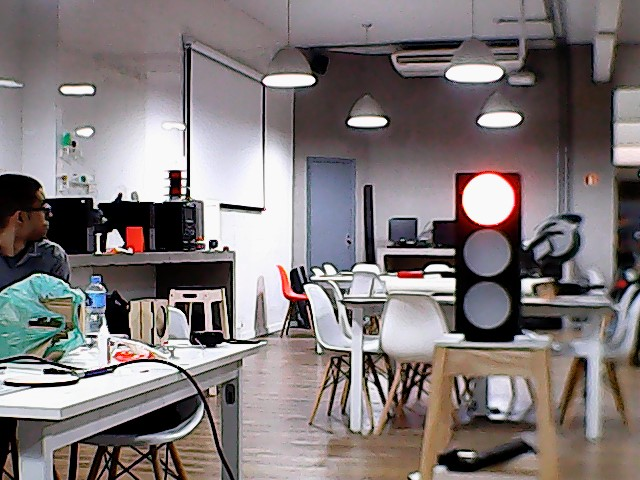vermelho: (451, 170, 529, 347)
